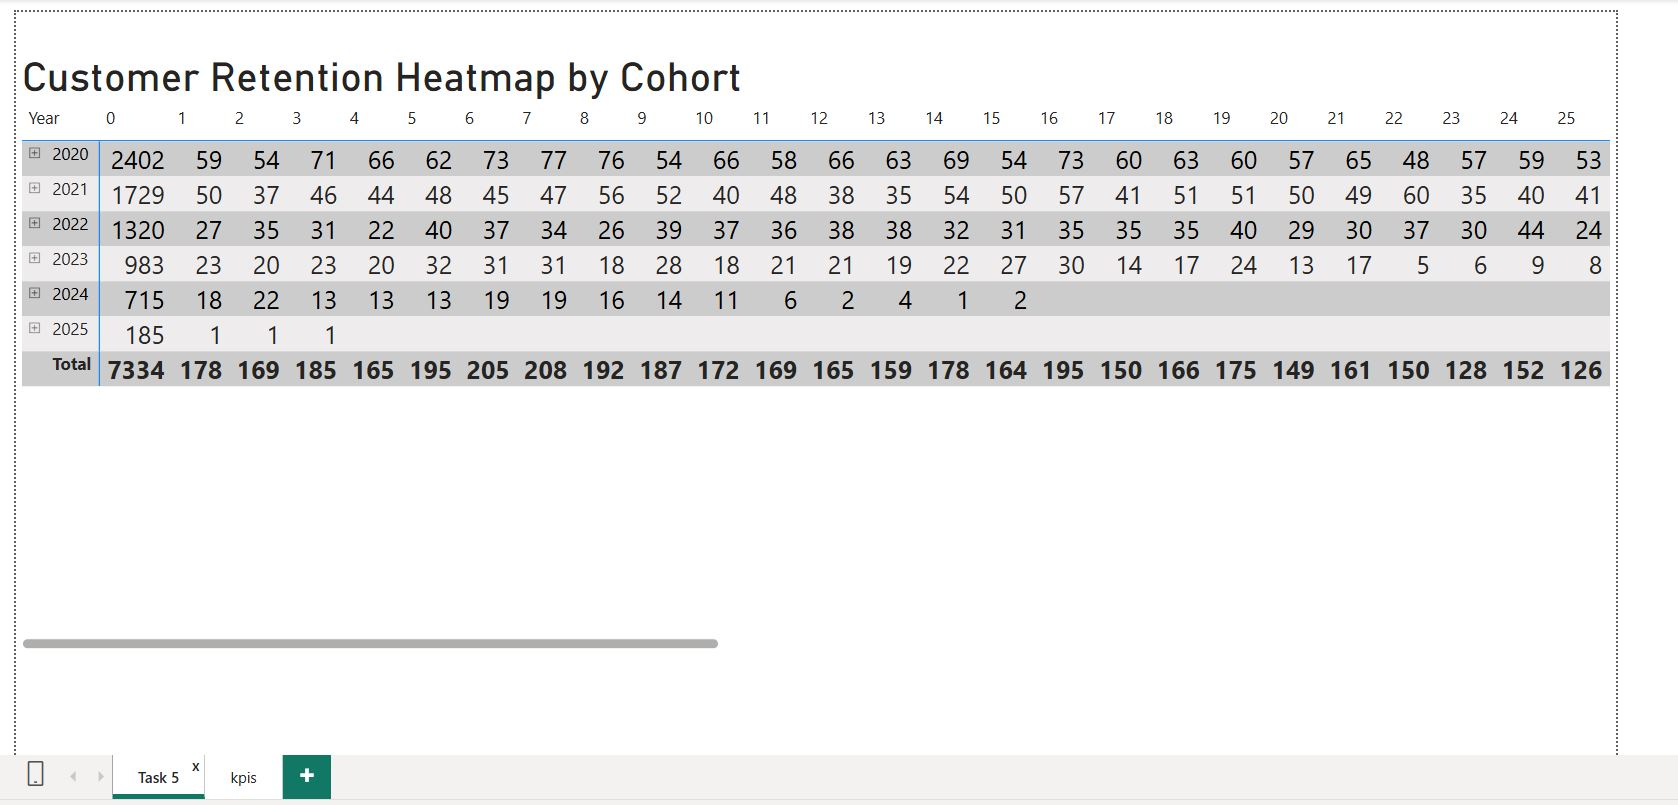

What the dashboard file says about the page in this screenshot:
{"tool":"powerbi","page":{"name":"Task 5","canvas":[1280,730],"ordinal":0},"visuals":[{"type":"pivotTable","title":"Customer Retention Heatmap by Cohort","fields":{"Rows":["fifth.cohort_month.Variation.Date Hierarchy.Year","fifth.cohort_month.Variation.Date Hierarchy.Quarter","fifth.cohort_month.Variation.Date Hierarchy.Month","fifth.cohort_month.Variation.Date Hierarchy.Day","fourth.cohort_month.Variation.Date Hierarchy.Year","fourth.cohort_month.Variation.Date Hierarchy.Quarter","fourth.cohort_month.Variation.Date Hierarchy.Month","fourth.cohort_month.Variation.Date Hierarchy.Day","second.cohort_month.Variation.Date Hierarchy.Year","second.cohort_month.Variation.Date Hierarchy.Quarter","second.cohort_month.Variation.Date Hierarchy.Month","second.cohort_month.Variation.Date Hierarchy.Day"],"Columns":["fifth.cohort_index","fourth.cohort_index"],"Values":["Sum(fifth.retained_customers)"]},"box":[0,32.8,1280.3,482],"z":0}]}

Visuals, with their boxes on the page's 1280x730 design canvas (x1, y1, x2, y2). These are canvas units, not pixel positions in the 1678x805 screenshot, which may show the page scaled, cropped or inside an application window:
"Customer Retention Heatmap by Cohort" pivotTable: [0, 33, 1280, 515]
